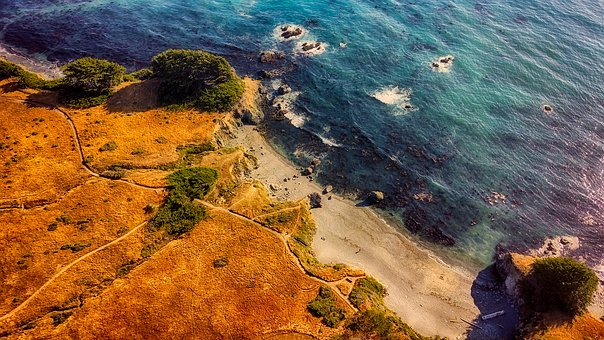sea: (13, 1, 599, 314)
